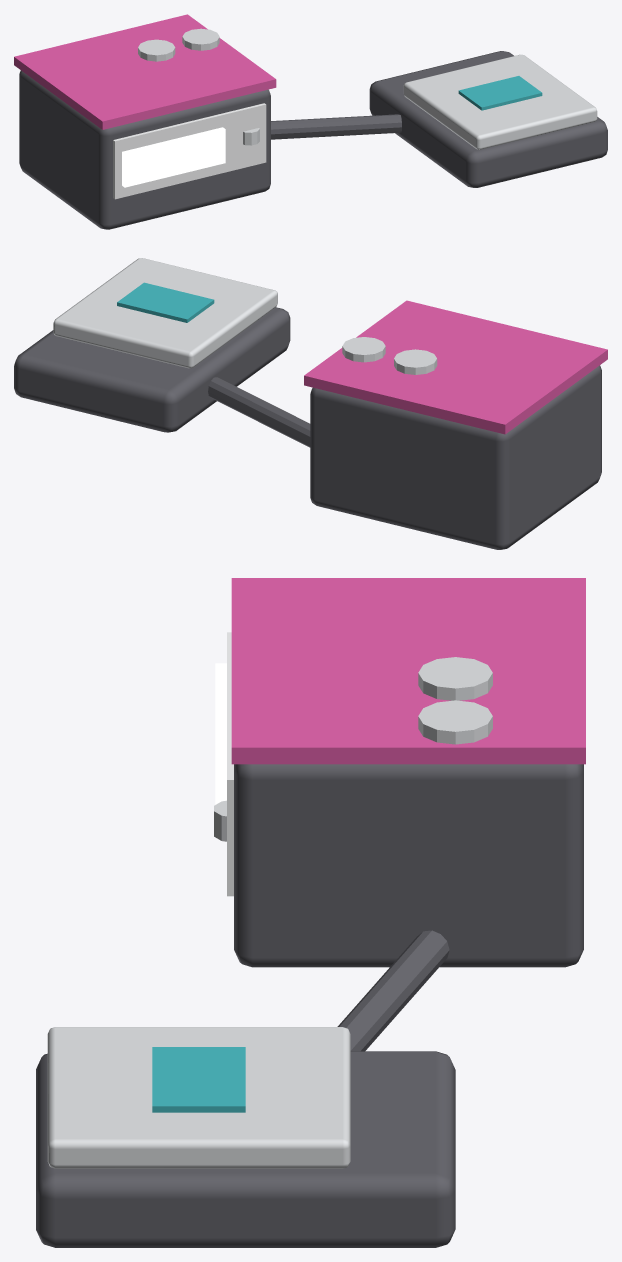
Rendered from tattoo-and-piercing-studio-power-supply-and-pedal-2853ca76__34522.glb.
3 renders of one model, top to bottom at view 1: azimuth 30°, elevation 25°; view 2: azimuth 150°, elevation 25°; view 3: azimuth 270°, elevation 25°, orthographic. The views are drawn at different scales.
Parts seen in each view (by area): view 1: power-supply-and-pedal; view 2: power-supply-and-pedal; view 3: power-supply-and-pedal.
Boxes of the visible parts, x1,y1,x2,y2 form: power-supply-and-pedal: (14, 14, 607, 229); power-supply-and-pedal: (14, 258, 607, 549); power-supply-and-pedal: (36, 578, 585, 1247).
Size of the model in its own units: 0.456 by 0.114 by 0.236.
